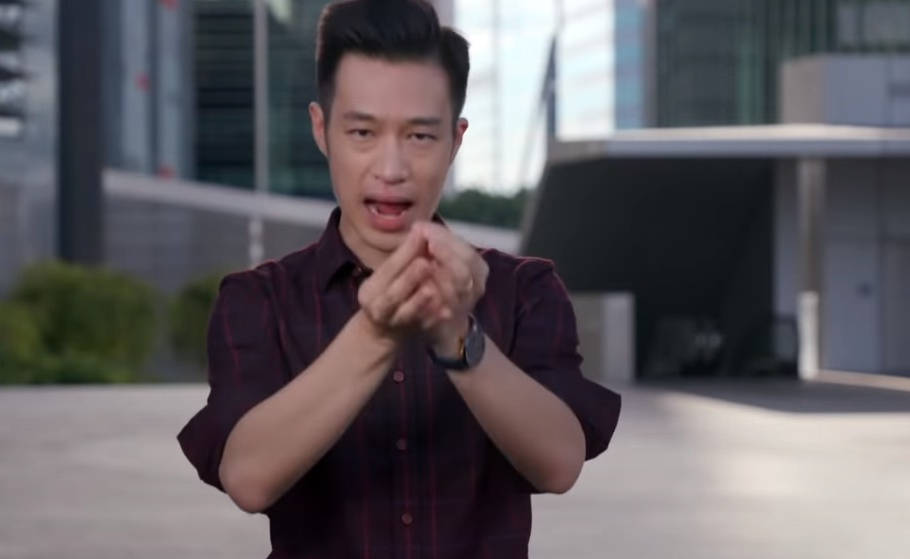mouth: (363, 193, 417, 228)
nose: (373, 162, 409, 182)
